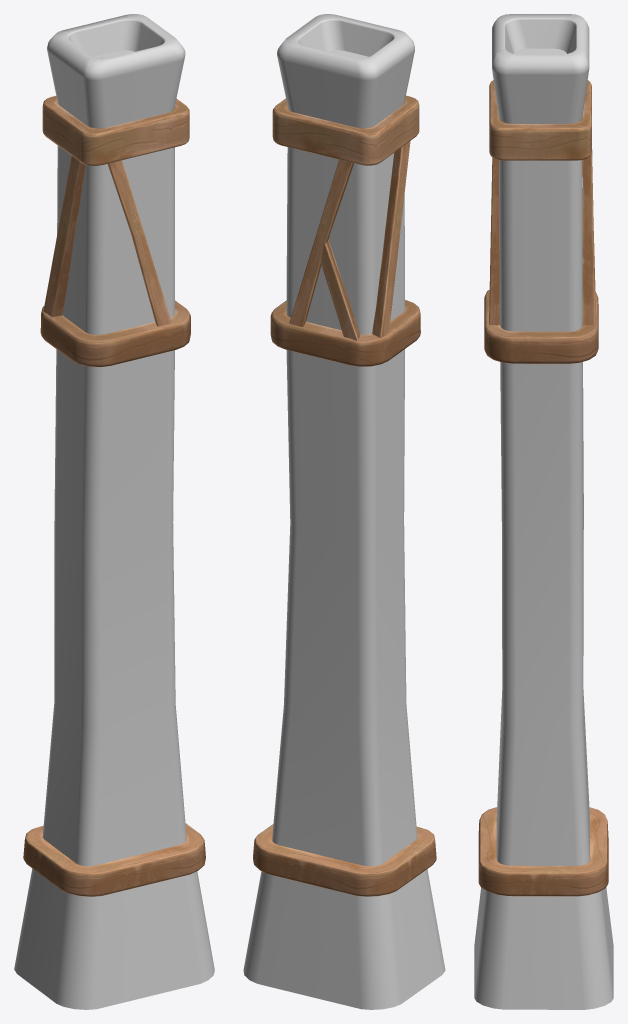
Rendered from SM_Chimney.gltf.
The picture shows the model from 3 angles, left to right: view 1: azimuth 30°, elevation 25°; view 2: azimuth 150°, elevation 25°; view 3: azimuth 270°, elevation 25°; orthographic projection.
Parts seen in each view (by area): view 1: SM_Chimney_LOD0; view 2: SM_Chimney_LOD0; view 3: SM_Chimney_LOD0.
Part boxes in pixels (x1,y1,x2,y2): SM_Chimney_LOD0: [14, 14, 214, 1009]; SM_Chimney_LOD0: [243, 14, 445, 1009]; SM_Chimney_LOD0: [474, 14, 613, 1009].
Size of what is drawn, in the model's own units: 1.3 by 7.44 by 1.01.
Materials: 2 (1 with a texture image).
